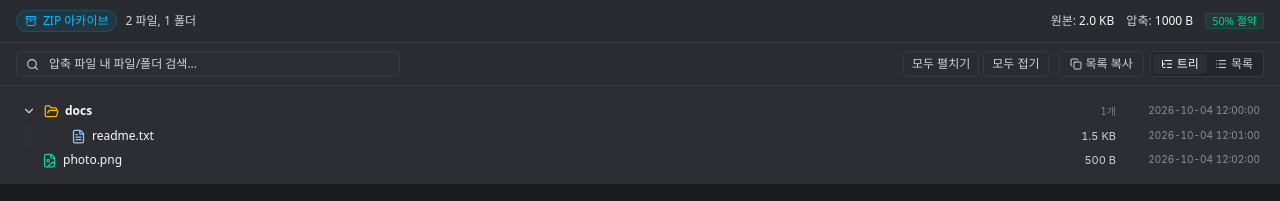
Test case: QuickPreviewZipView › copies entry list to clipboard
Click the button titled "목록 텍스트 복사": (1101, 64) top-left (1058, 51), bottom-right (1144, 77)
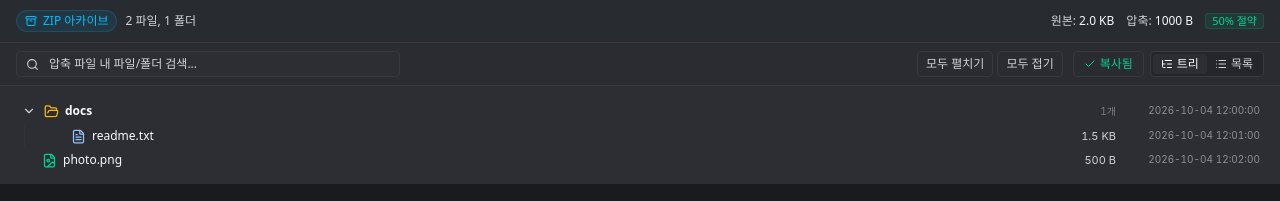
expect the text "복사됨" is shown: met, box top-left (1100, 56), bottom-right (1133, 72)
